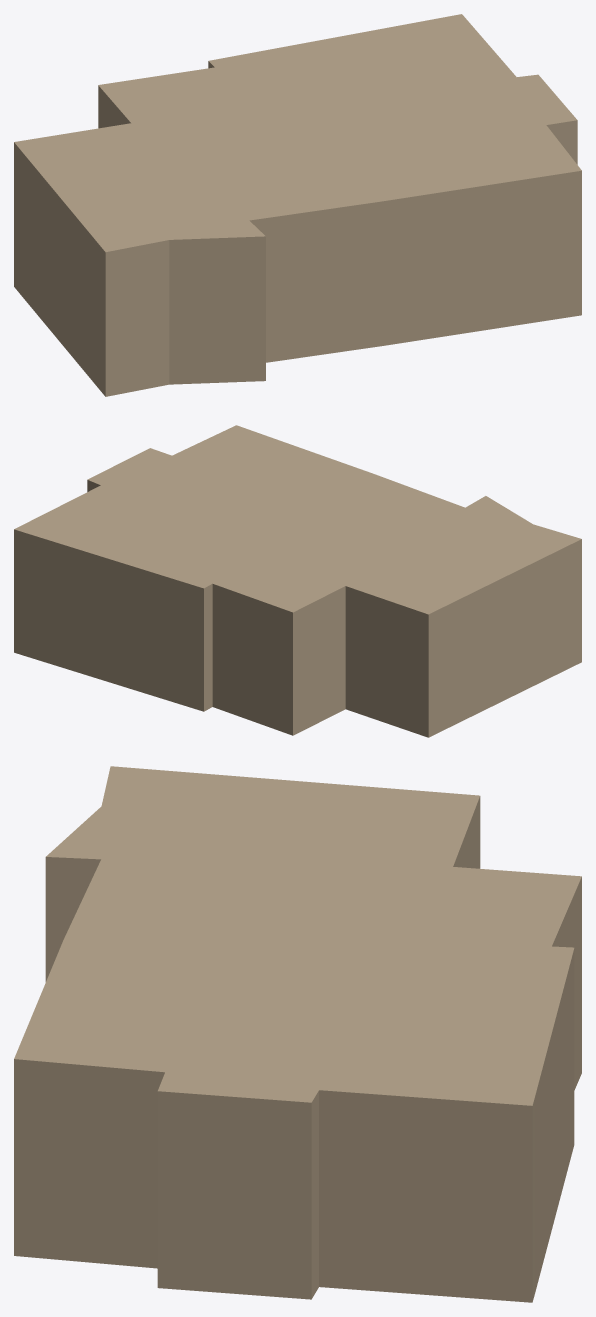
File: bld_98640381.dae
3 views of the same model, one above another, from view 1: azimuth 30°, elevation 25°; view 2: azimuth 150°, elevation 25°; view 3: azimuth 270°, elevation 25° (orthographic). The views are drawn at different scales.
Visible parts, largest first — view 1: Maldon Town Hall; view 2: Maldon Town Hall; view 3: Maldon Town Hall.
Boxes of the visible parts, x1,y1,x2,y2 form: Maldon Town Hall: (14, 14, 581, 396); Maldon Town Hall: (14, 425, 581, 737); Maldon Town Hall: (14, 766, 581, 1302).
Size of the model in its own units: 29.6 by 20.92 by 8.
